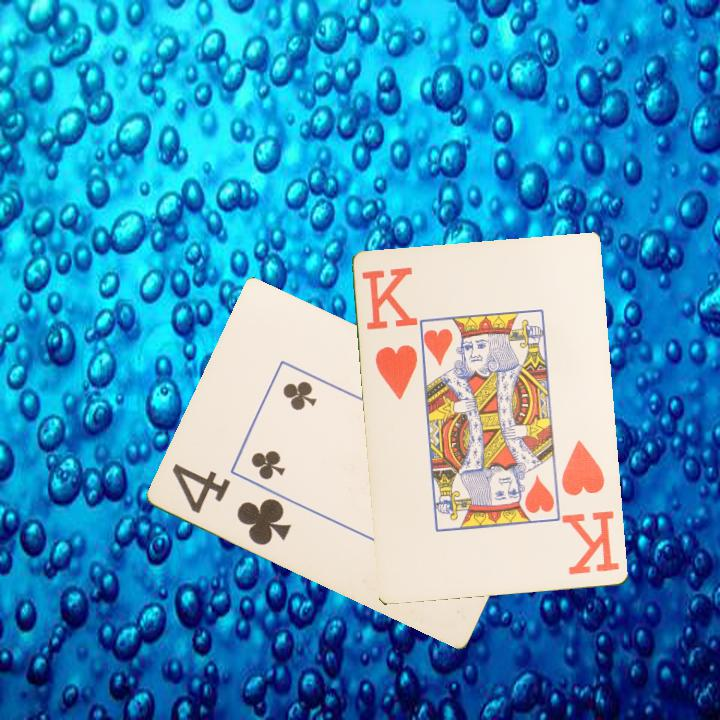4c: (169, 459, 295, 549)
Kh: (558, 437, 623, 579), (358, 263, 422, 403)
